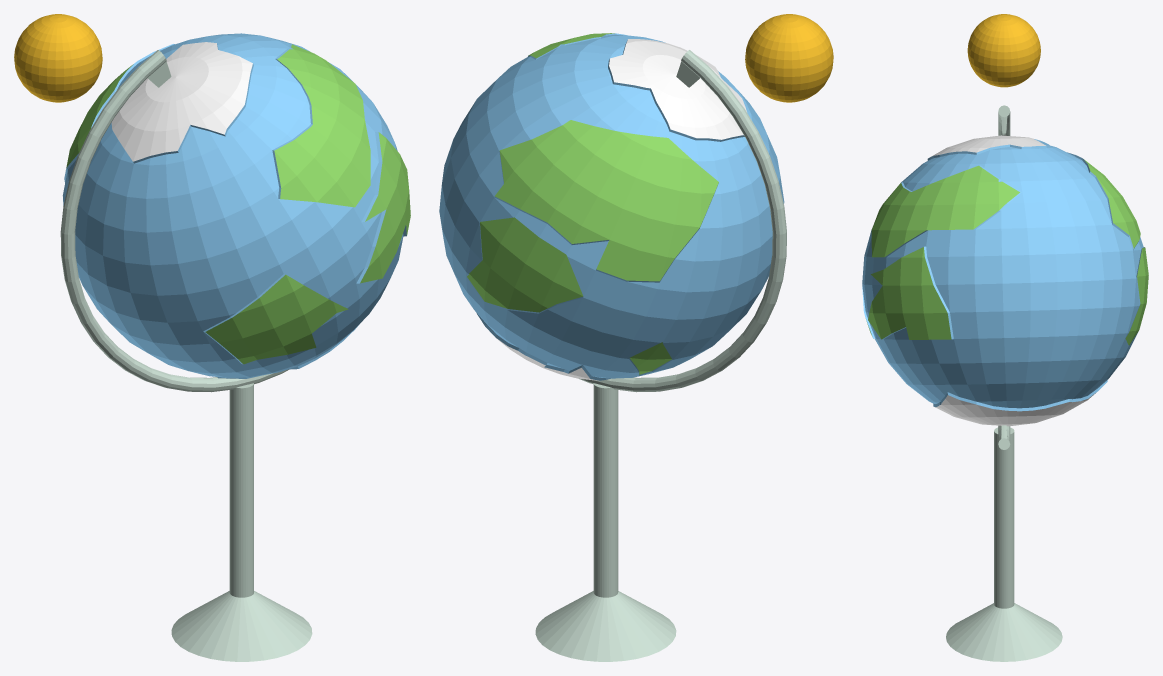
The model's file is G477Proj2Globe.fbx.
The picture shows the model from 3 angles, left to right: view 1: azimuth 30°, elevation 25°; view 2: azimuth 150°, elevation 25°; view 3: azimuth 270°, elevation 25°; orthographic projection. The views are drawn at different scales.
Parts seen in each view (by area): view 1: Globe, GlobeStand, GlobeSun; view 2: Globe, GlobeStand, GlobeSun; view 3: Globe, GlobeStand, GlobeSun.
Boxes of the visible parts, box(x1,y1,x2,y2) form: Globe: box(62, 33, 410, 378); GlobeStand: box(60, 50, 312, 661); GlobeSun: box(14, 14, 102, 102); Globe: box(439, 33, 784, 380); GlobeStand: box(535, 50, 786, 661); GlobeSun: box(745, 14, 833, 102); Globe: box(862, 135, 1148, 426); GlobeStand: box(946, 105, 1062, 661); GlobeSun: box(967, 14, 1040, 87).
Bounding box in the file's own units: 67.87 × 117 × 55.75.
